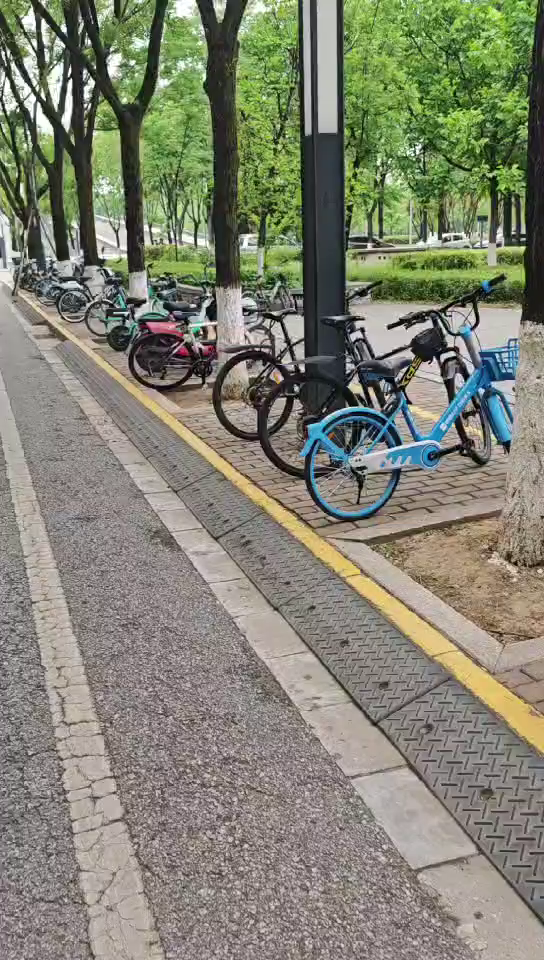others: (261, 306, 493, 460), (218, 284, 382, 436), (123, 298, 270, 387)
shared_bike_haluo: (309, 292, 516, 527)
